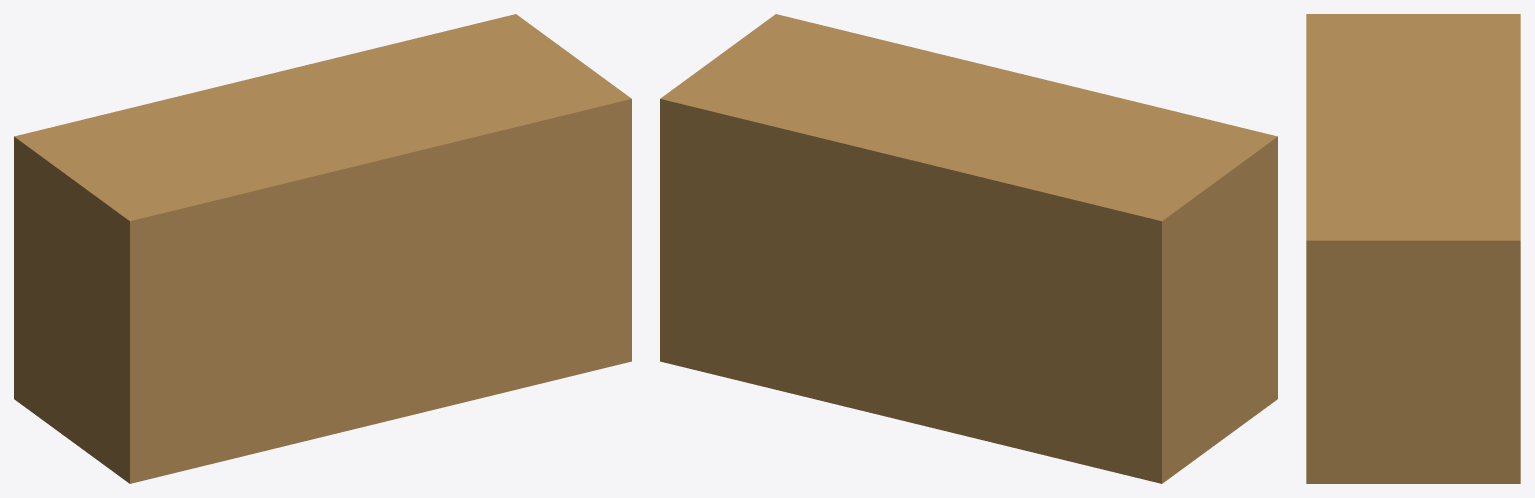
3 views of the same model, side by side, from view 1: azimuth 30°, elevation 25°; view 2: azimuth 150°, elevation 25°; view 3: azimuth 270°, elevation 25° (orthographic). The views are drawn at different scales.
Parts seen in each view (by area): view 1: RUN-084-S00-NOG-24; view 2: RUN-084-S00-NOG-24; view 3: RUN-084-S00-NOG-24.
Boxes of the visible parts, x1,y1,x2,y2 form: RUN-084-S00-NOG-24: [14, 14, 631, 483]; RUN-084-S00-NOG-24: [660, 14, 1277, 483]; RUN-084-S00-NOG-24: [1306, 14, 1520, 483].
Size of the model in its own units: 0.09 by 0.045 by 0.036.
